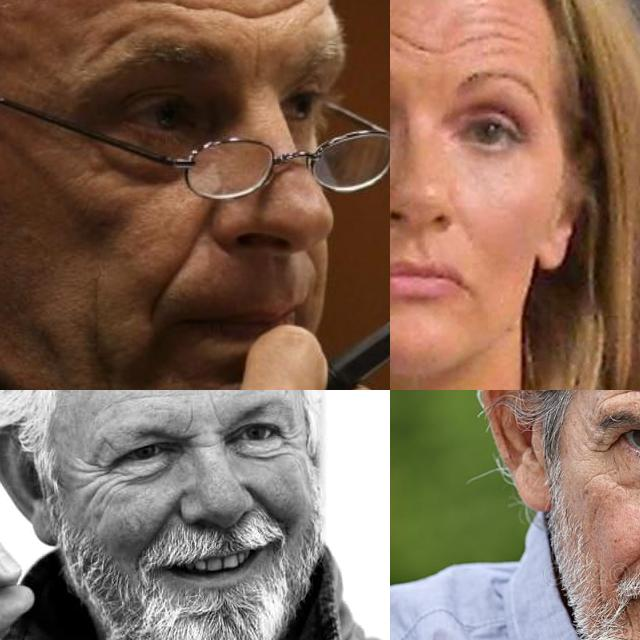chin: (623, 608, 635, 636)
crows_feet: (83, 462, 121, 500), (279, 426, 301, 454), (590, 436, 612, 460)
forehead: (81, 18, 132, 62), (169, 0, 240, 31), (438, 30, 514, 56), (247, 1, 311, 26), (390, 13, 412, 48), (116, 390, 162, 404)
frown_line: (208, 398, 224, 428), (182, 406, 198, 429)
gummy_smile: (144, 243, 186, 315), (148, 494, 176, 538), (247, 484, 281, 518), (616, 538, 640, 577)
masseter: (592, 563, 608, 599)
